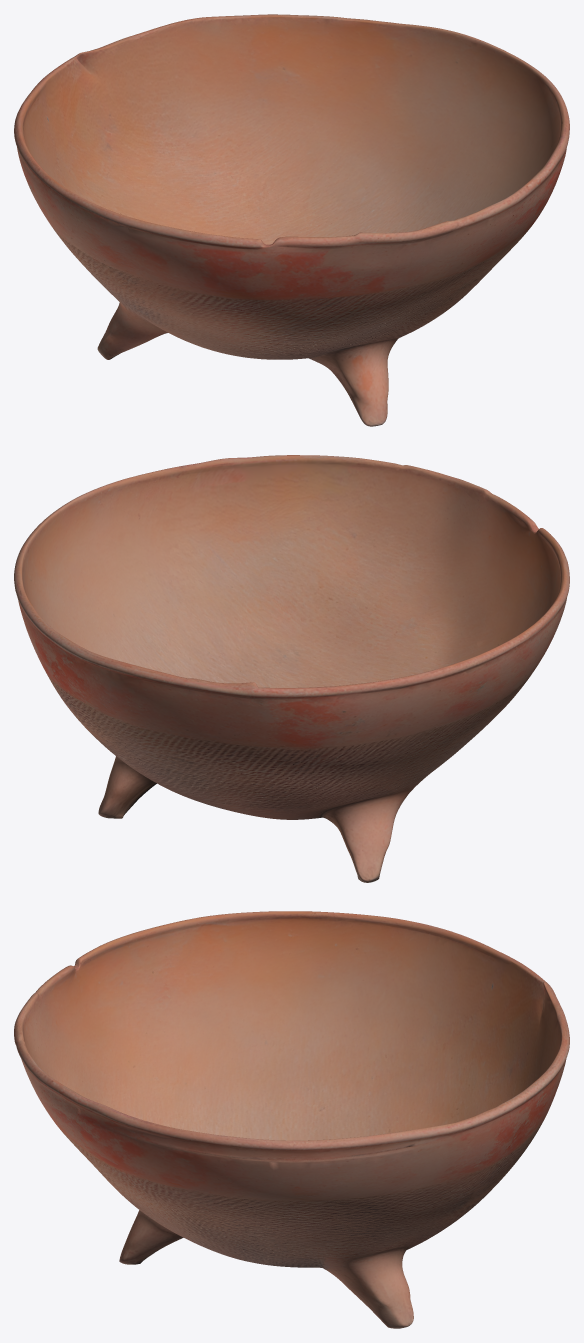
The model's file is kuandaiwensanzucaitaoboB.glb.
The picture shows the model from 3 angles, top to bottom: view 1: azimuth 30°, elevation 25°; view 2: azimuth 150°, elevation 25°; view 3: azimuth 270°, elevation 25°; orthographic projection.
Visible parts, largest first — view 1: node_0; view 2: node_0; view 3: node_0.
Boxes of the visible parts, x1,y1,x2,y2 form: node_0: (14,14,569,426); node_0: (14,455,569,882); node_0: (14,911,569,1328).
Bounding box in the file's own units: 1.09 × 0.5165 × 1.09.
1 material, 1 textured.
